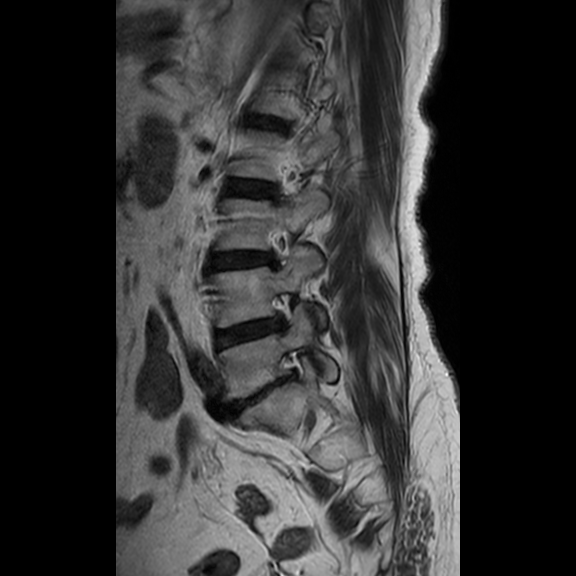LFS0: (273, 342, 314, 393)
